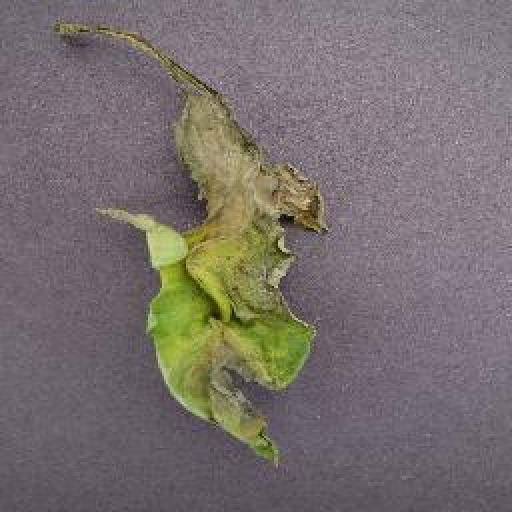disease_tomato: (57, 24, 332, 471)
